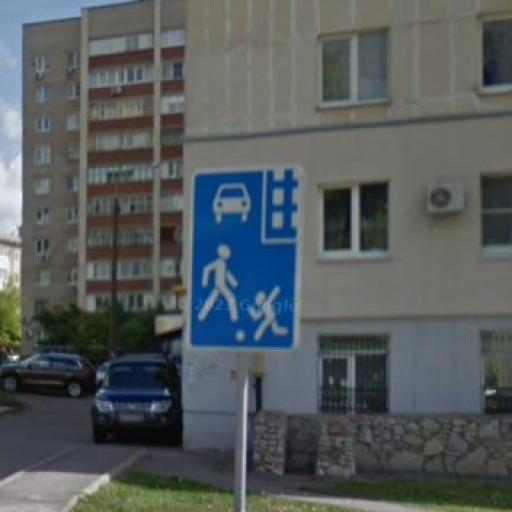traffic_sign: (185, 163, 310, 356)
